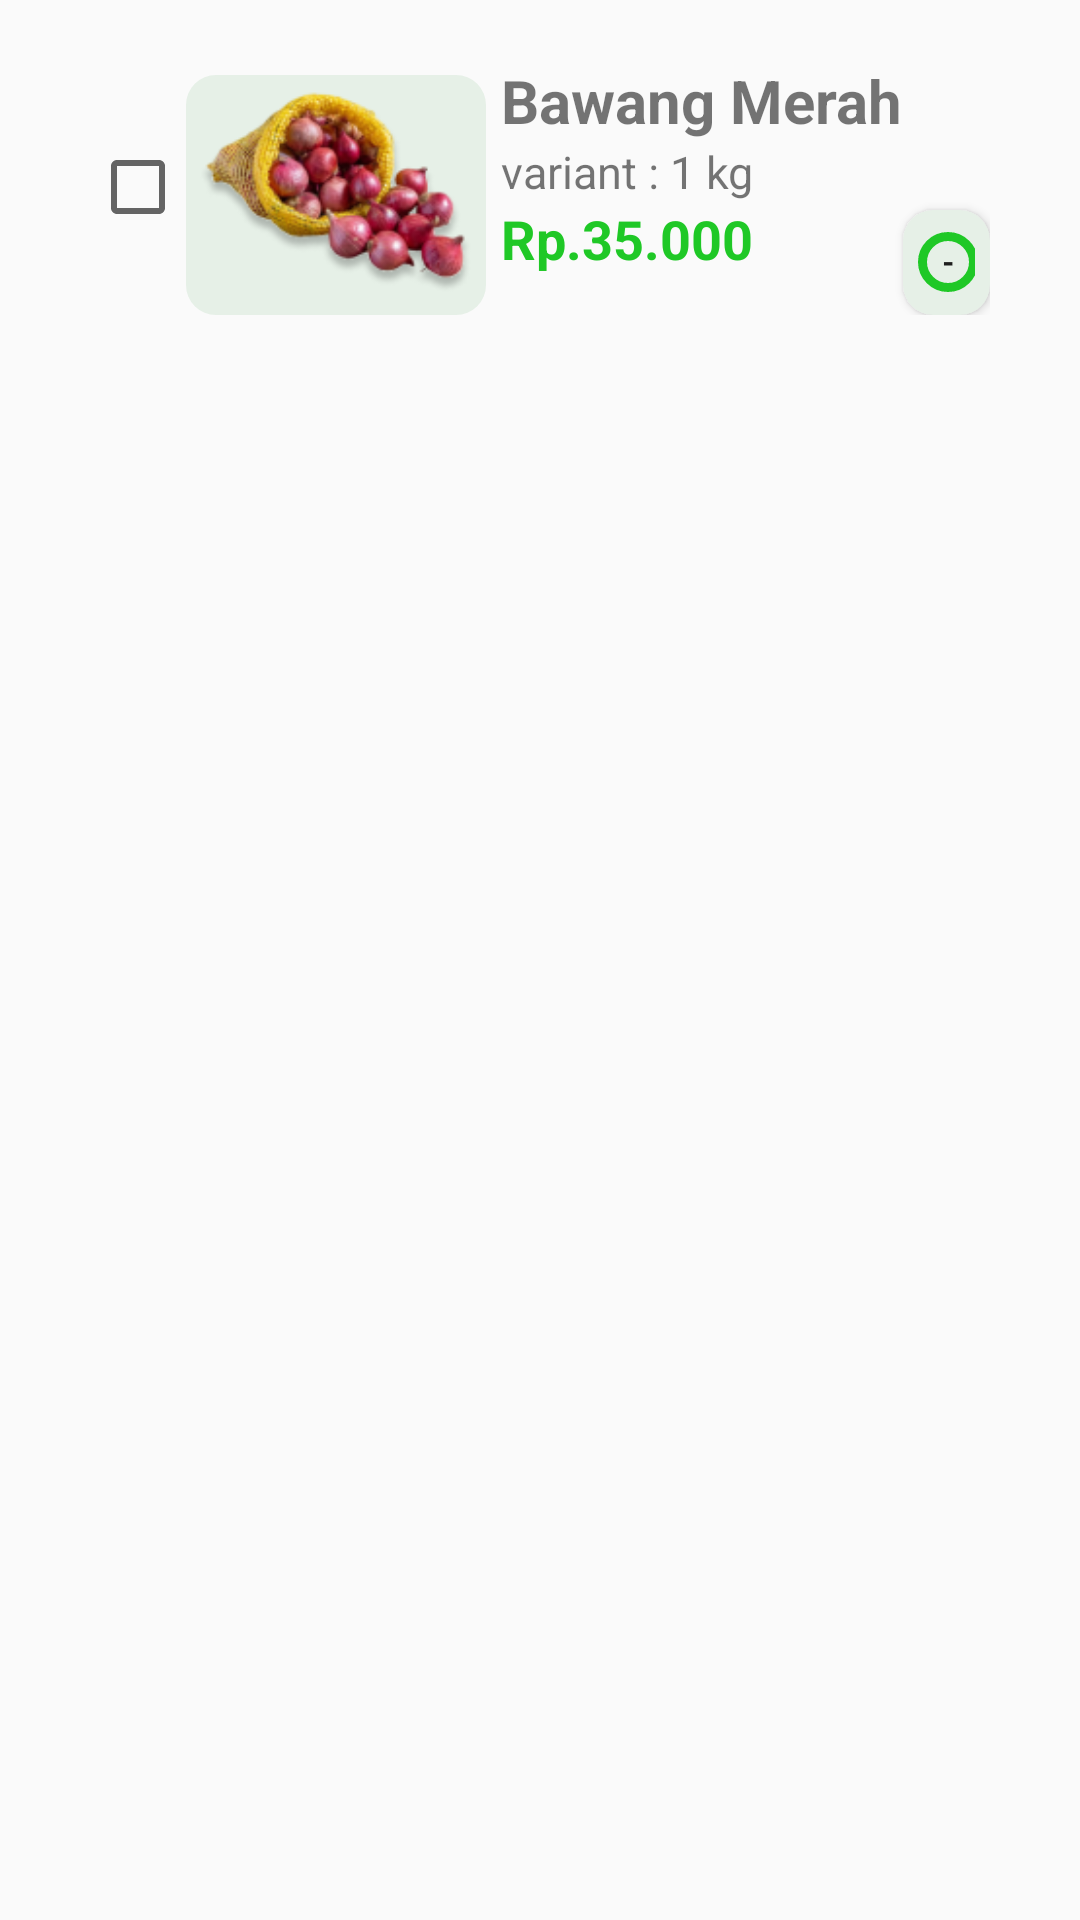

Point at icon controls on the screen. Image size 1080px x 1920px, points as (x,y).
produk: (336,191)
